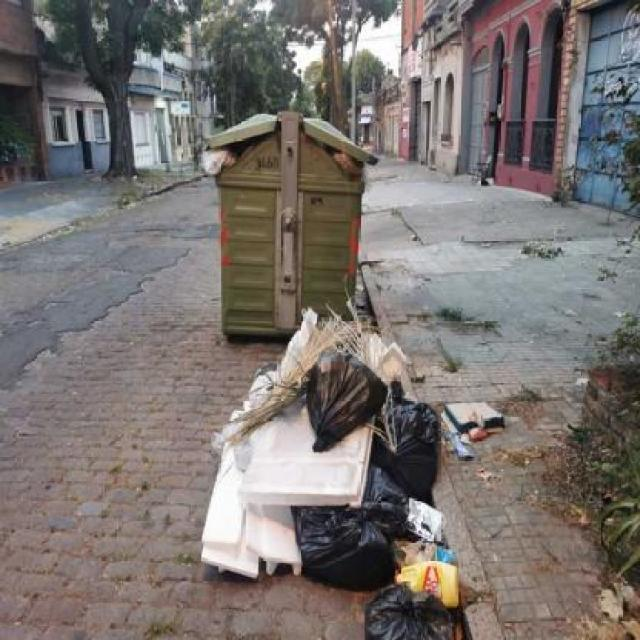garbage: (194, 271, 509, 640), (328, 142, 376, 183), (202, 140, 239, 172)
